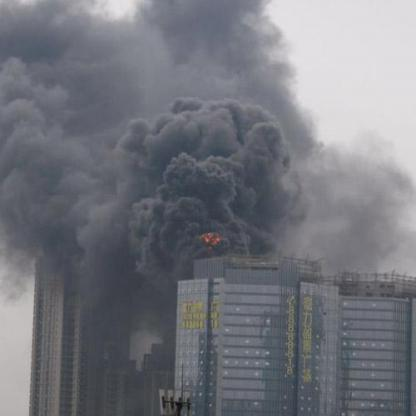smoke: (126, 102, 307, 200), (6, 116, 144, 220), (6, 5, 119, 112), (148, 7, 274, 98), (307, 174, 382, 266), (140, 198, 258, 256), (76, 226, 144, 294), (118, 14, 155, 101)
